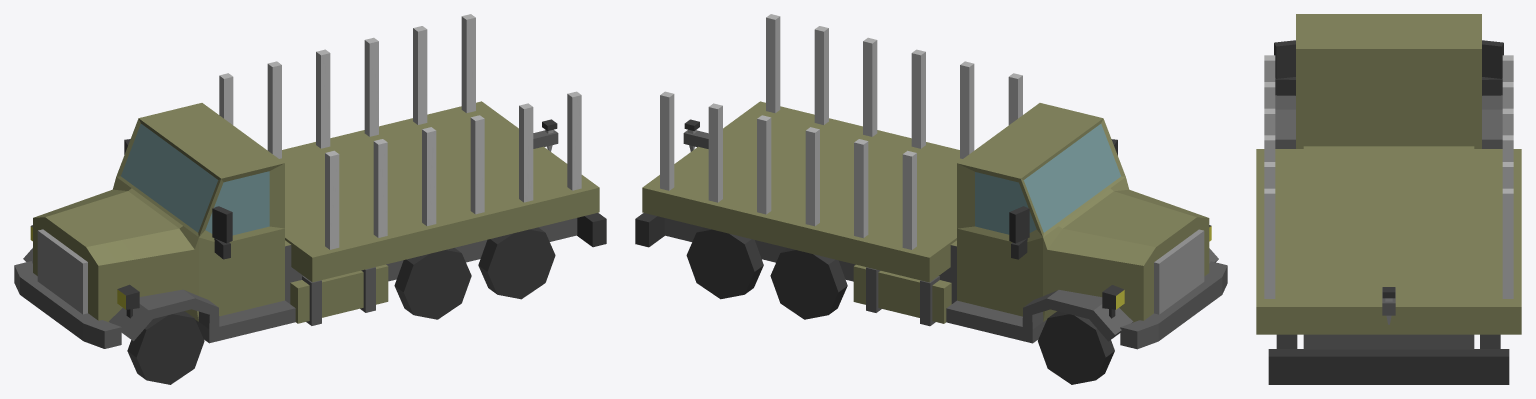
The model's file is LogTruck.fbx.
3 views of the same model, side by side, from view 1: azimuth 30°, elevation 25°; view 2: azimuth 150°, elevation 25°; view 3: azimuth 270°, elevation 25° (orthographic). The views are drawn at different scales.
Parts seen in each view (by area): view 1: LogTruck; view 2: LogTruck; view 3: LogTruck.
Part boxes in pixels (x1,y1,x2,y2): LogTruck: (14, 14, 606, 384); LogTruck: (635, 14, 1227, 384); LogTruck: (1256, 14, 1521, 384).
Size of the model in its own units: 10.39 by 3.84 by 4.21.
